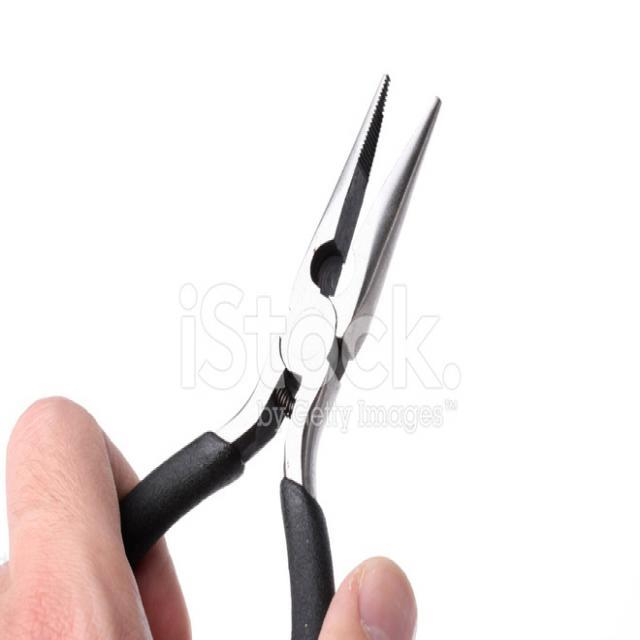pliers: (116, 66, 446, 636)
